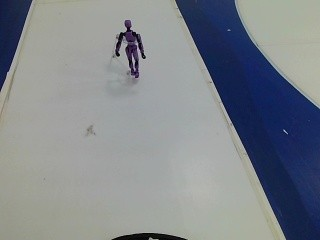pedestrian: (108, 15, 147, 80)
